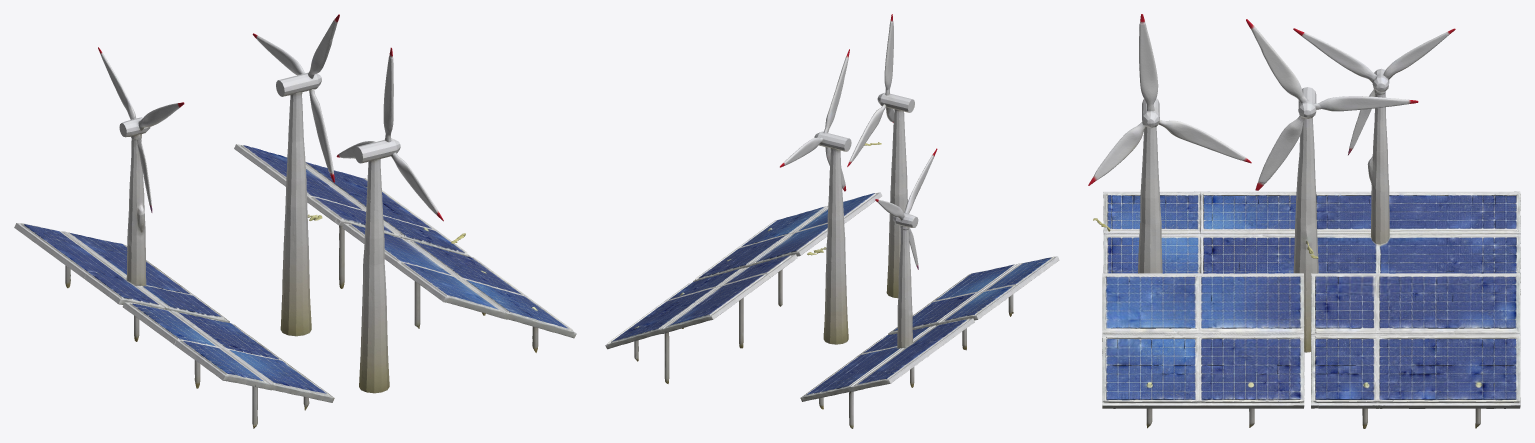
Rendered from renewable-energy-source.glb.
3 renders of one model, left to right at view 1: azimuth 30°, elevation 25°; view 2: azimuth 150°, elevation 25°; view 3: azimuth 270°, elevation 25°, orthographic. The views are drawn at different scales.
Parts seen in each view (by area): view 1: tripo_node_ca3c5dda-1d84-4a69-9063-9ca88d7376cb; view 2: tripo_node_ca3c5dda-1d84-4a69-9063-9ca88d7376cb; view 3: tripo_node_ca3c5dda-1d84-4a69-9063-9ca88d7376cb.
Boxes of the visible parts, left/top/right/bottom form: tripo_node_ca3c5dda-1d84-4a69-9063-9ca88d7376cb: left=14, top=14, right=576, bottom=428; tripo_node_ca3c5dda-1d84-4a69-9063-9ca88d7376cb: left=605, top=14, right=1059, bottom=428; tripo_node_ca3c5dda-1d84-4a69-9063-9ca88d7376cb: left=1088, top=14, right=1520, bottom=428.
Size of the model in its own units: 0.9423 by 0.8751 by 0.9995.
Materials: 1 (1 with a texture image).
